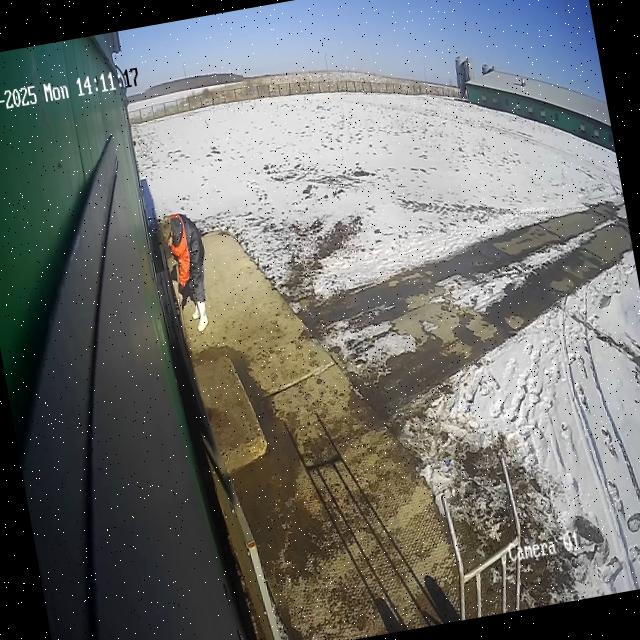Red uniform: (154, 206, 220, 340)
